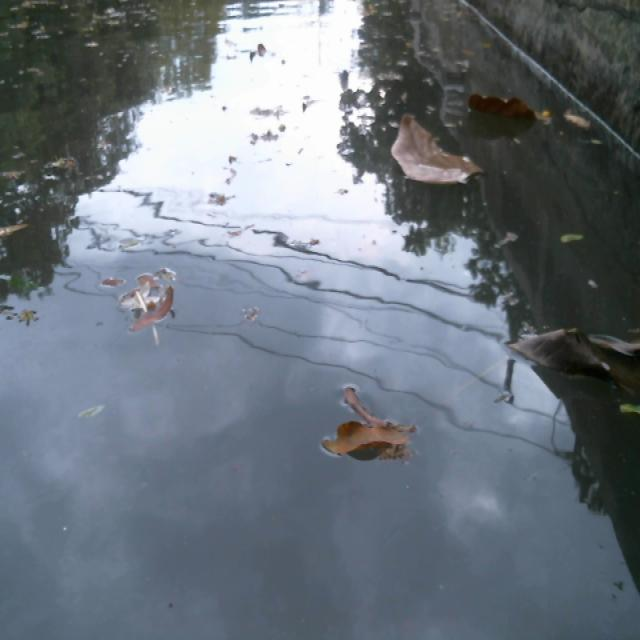Big-leaf: (508, 310, 640, 400), (388, 107, 484, 190), (466, 84, 538, 138)
Small-leaf: (315, 414, 411, 471), (113, 285, 184, 338), (70, 402, 111, 424), (557, 228, 585, 248)
